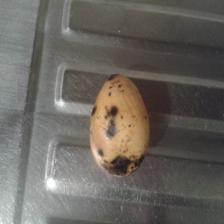Mango Semirotten: (83, 74, 154, 179)
